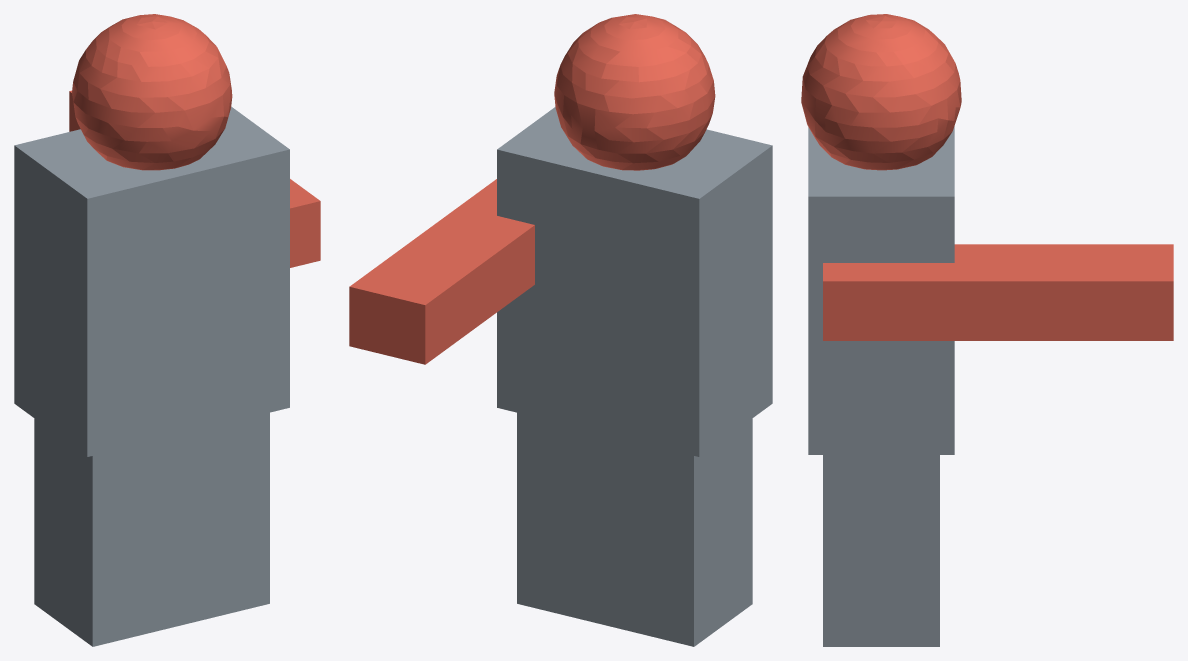
The model's file is SU_RazryadTrooper_LOD1.glb.
3 renders of one model, left to right at view 1: azimuth 30°, elevation 25°; view 2: azimuth 150°, elevation 25°; view 3: azimuth 270°, elevation 25°, orthographic.
Parts seen in each view (by area): view 1: Head; view 2: Head; view 3: Head.
Boxes of the visible parts, x1,y1,x2,y2 form: Head: [14, 14, 320, 646]; Head: [349, 14, 772, 646]; Head: [801, 14, 1173, 646].
Size of the model in its own units: 76 by 176 by 102.
